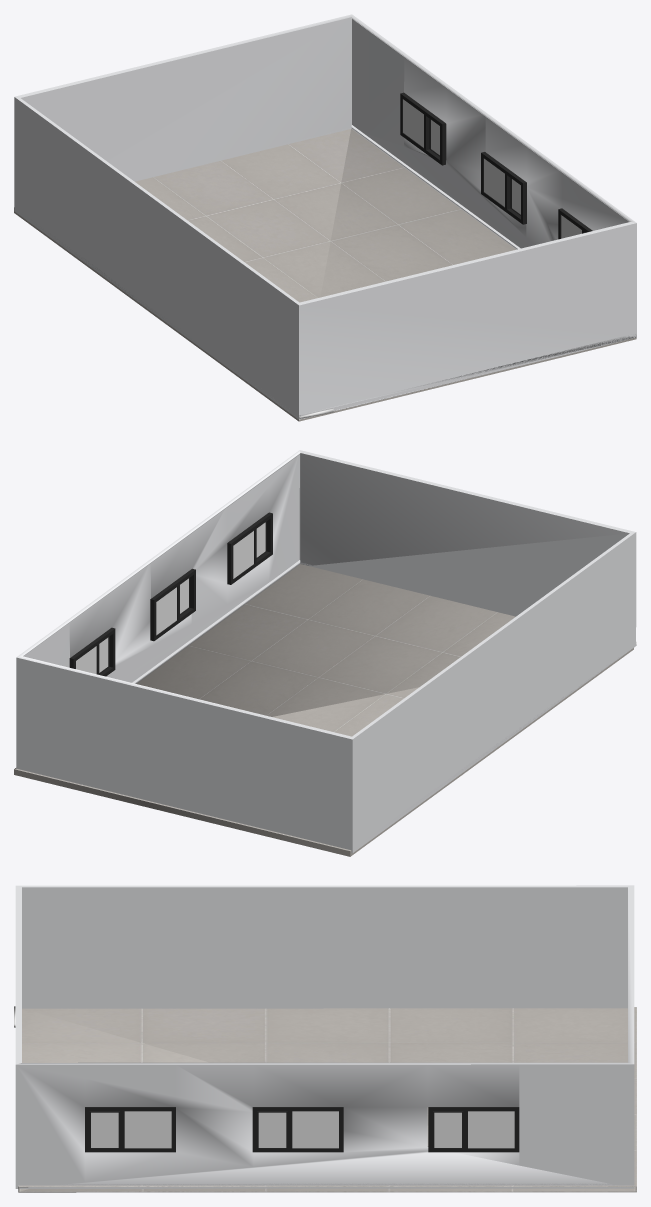
Rendered from ruangancoba.fbx.
3 renders of one model, top to bottom at view 1: azimuth 30°, elevation 25°; view 2: azimuth 150°, elevation 25°; view 3: azimuth 270°, elevation 25°, orthographic. The views are drawn at different scales.
Parts seen in each view (by area): view 1: ruanganLabFix, Cube_002__1_, Cube_002__2_, Cube_002__5_; view 2: ruanganLabFix, Cube_002__2_, Cube_002__5_, Cube_002__1_; view 3: ruanganLabFix, Cube_002__1_, Cube_002__2_, Cube_002__5_.
Boxes of the visible parts, <box> form: ruanganLabFix: <box>14,14,636,421</box>; Cube_002__1_: <box>400,92,446,165</box>; Cube_002__2_: <box>481,152,526,224</box>; Cube_002__5_: <box>558,208,592,239</box>; ruanganLabFix: <box>14,450,636,856</box>; Cube_002__2_: <box>150,568,195,641</box>; Cube_002__5_: <box>227,512,272,584</box>; Cube_002__1_: <box>69,627,115,676</box>; ruanganLabFix: <box>14,885,636,1192</box>; Cube_002__1_: <box>428,1107,519,1152</box>; Cube_002__2_: <box>252,1107,343,1152</box>; Cube_002__5_: <box>85,1107,175,1152</box>.
Size of the model in its own units: 839 by 277 by 1227.
